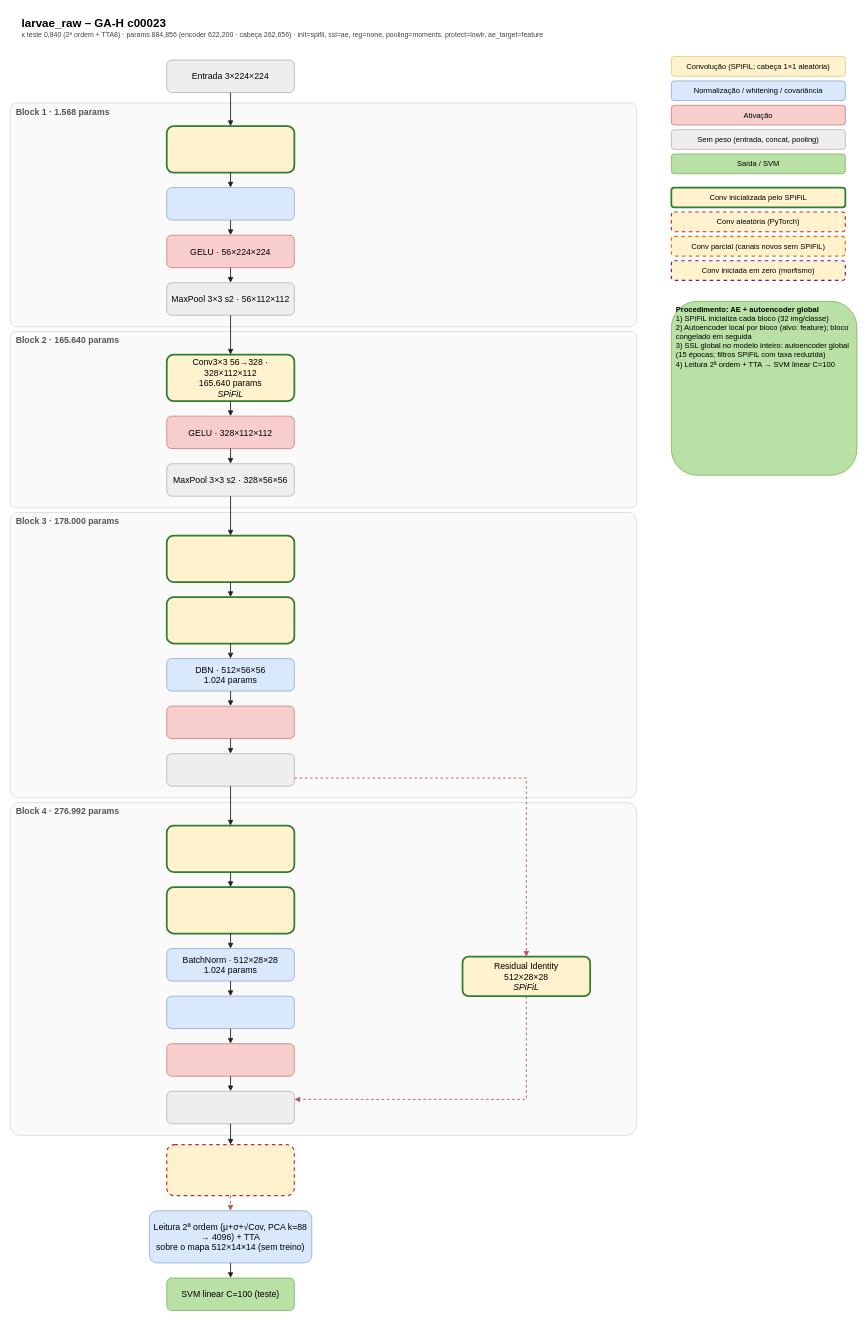
Image size: 867x1321. Some labels were removed from this diagram. Here are the shapes that lost their labels. From the top down, the centre of each, then its label:
At point 230,149: "Conv3×3 3→56 · 56×224×224 1.568 params SPiFiL".
At point 230,203: "ZCA · 56×224×224".
At point 230,558: "Conv5×5 328→328 g328 · 328×56×56 8.528 params SPiFiL".
At point 230,620: "Conv1×1 328→512 · 512×56×56 168.448 params SPiFiL".
At point 230,722: "SiLU · 512×56×56".
At point 230,769: "MaxPool 3×3 s2 · 512×28×28".
At point 230,848: "Conv5×5 512→512 g512 · 512×28×28 13.312 params SPiFiL".
At point 230,910: "Conv1×1 512→512 · 512×28×28 262.656 params SPiFiL".
At point 230,1012: "ZCA · 512×28×28".
At point 230,1059: "SiLU · 512×28×28".
At point 230,1107: "AvgPool 3×3 s2 · 512×14×14".
At point 230,1170: "Cabeça Conv1×1 512→512 · 512×14×14 262.656 params aleatória".
